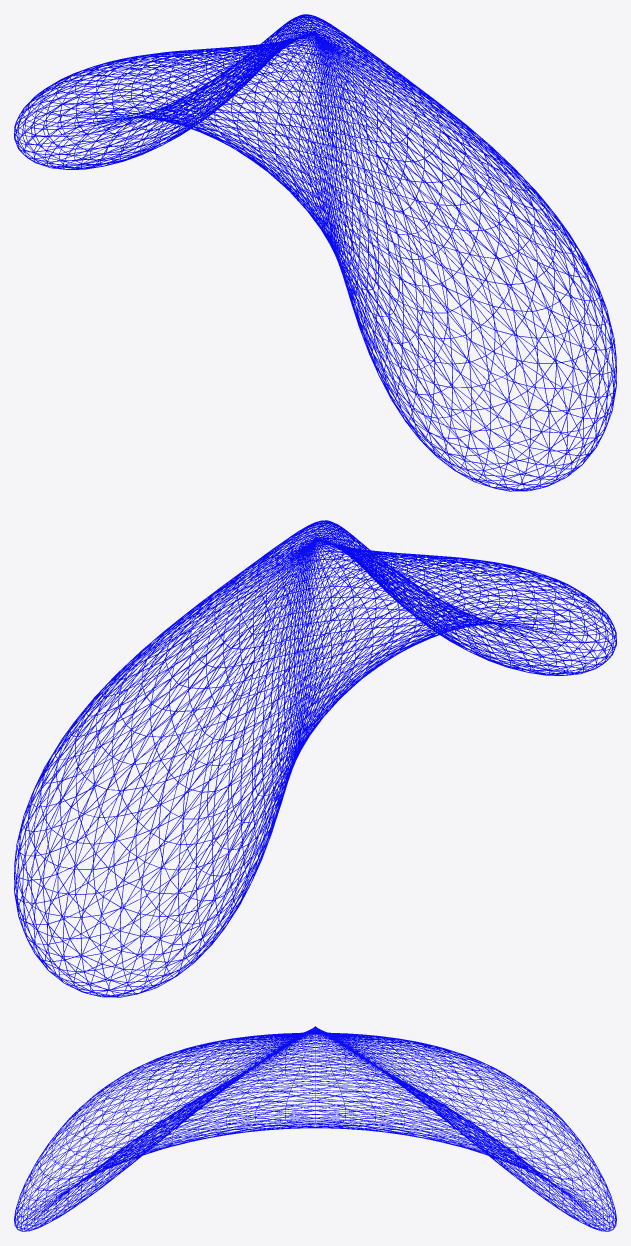
Rendered from Form1.glb.
The picture shows the model from 3 angles, top to bottom: view 1: azimuth 30°, elevation 25°; view 2: azimuth 150°, elevation 25°; view 3: azimuth 270°, elevation 25°; orthographic projection. The views are drawn at different scales.
Bounding box in the file's own units: 0.687 × 0.832 × 2.3.
